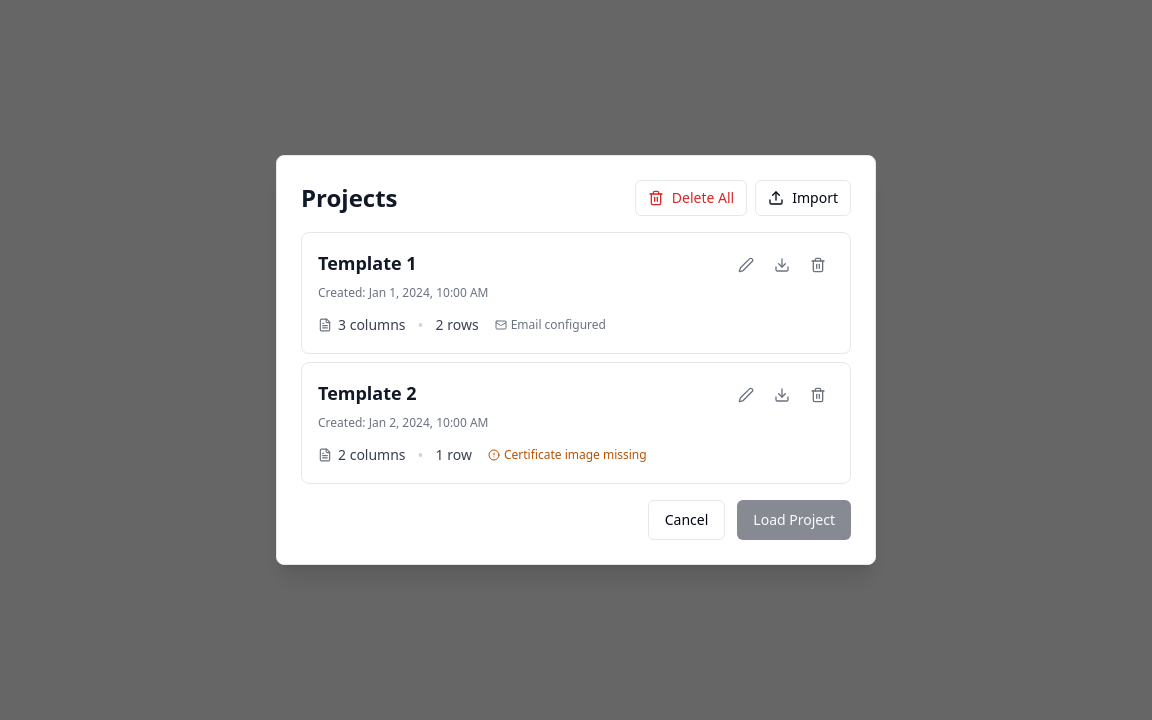
Scenario: LoadProjectModal › handles export error
Click the button titled "Export project" at (782, 265), box [766, 249, 798, 281]
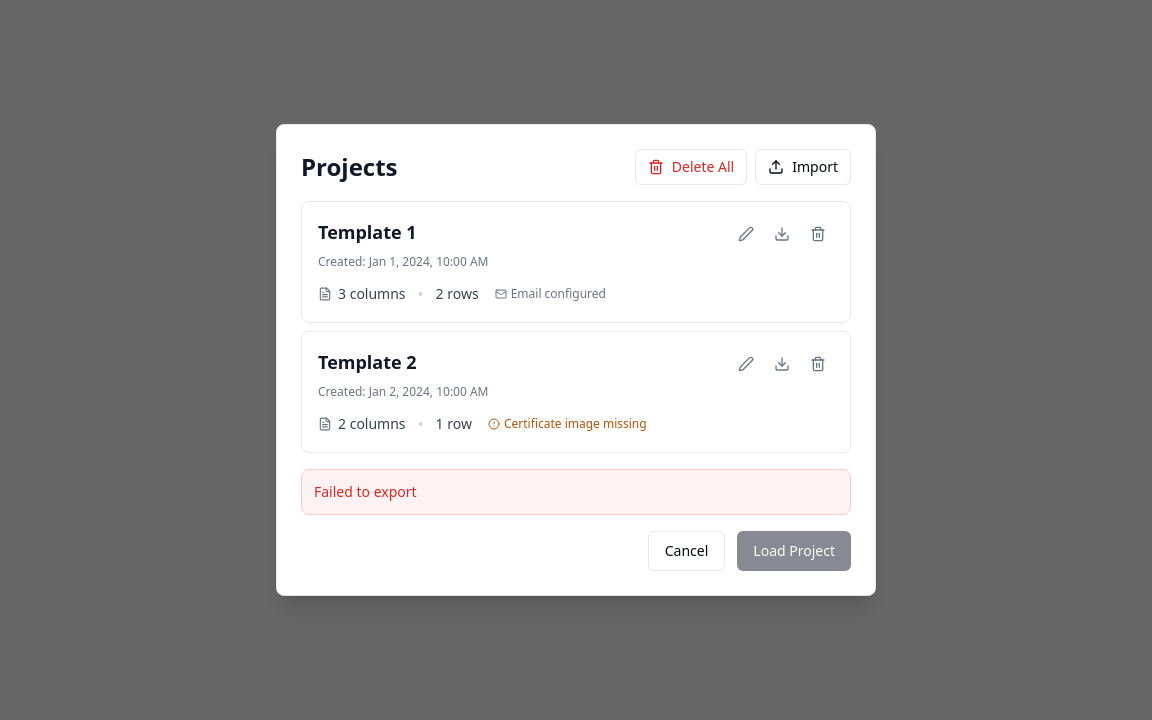
Expected: the text "Failed to export" is shown, [314, 482, 417, 501]
